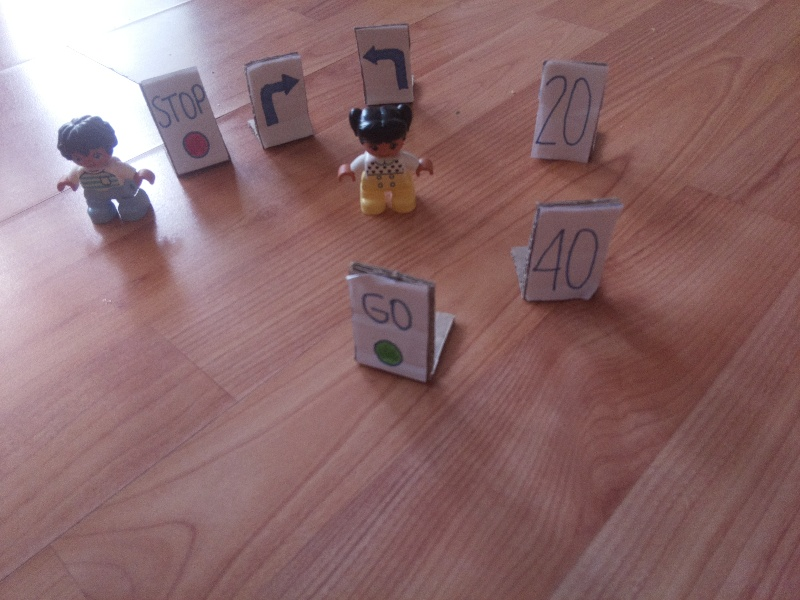20: (537, 76, 590, 151)
40: (537, 219, 599, 298)
go: (359, 289, 418, 369)
person: (42, 113, 154, 231), (335, 103, 435, 214)
stop: (152, 84, 217, 162)
turn left: (361, 42, 413, 92)
turn right: (256, 72, 302, 134)
